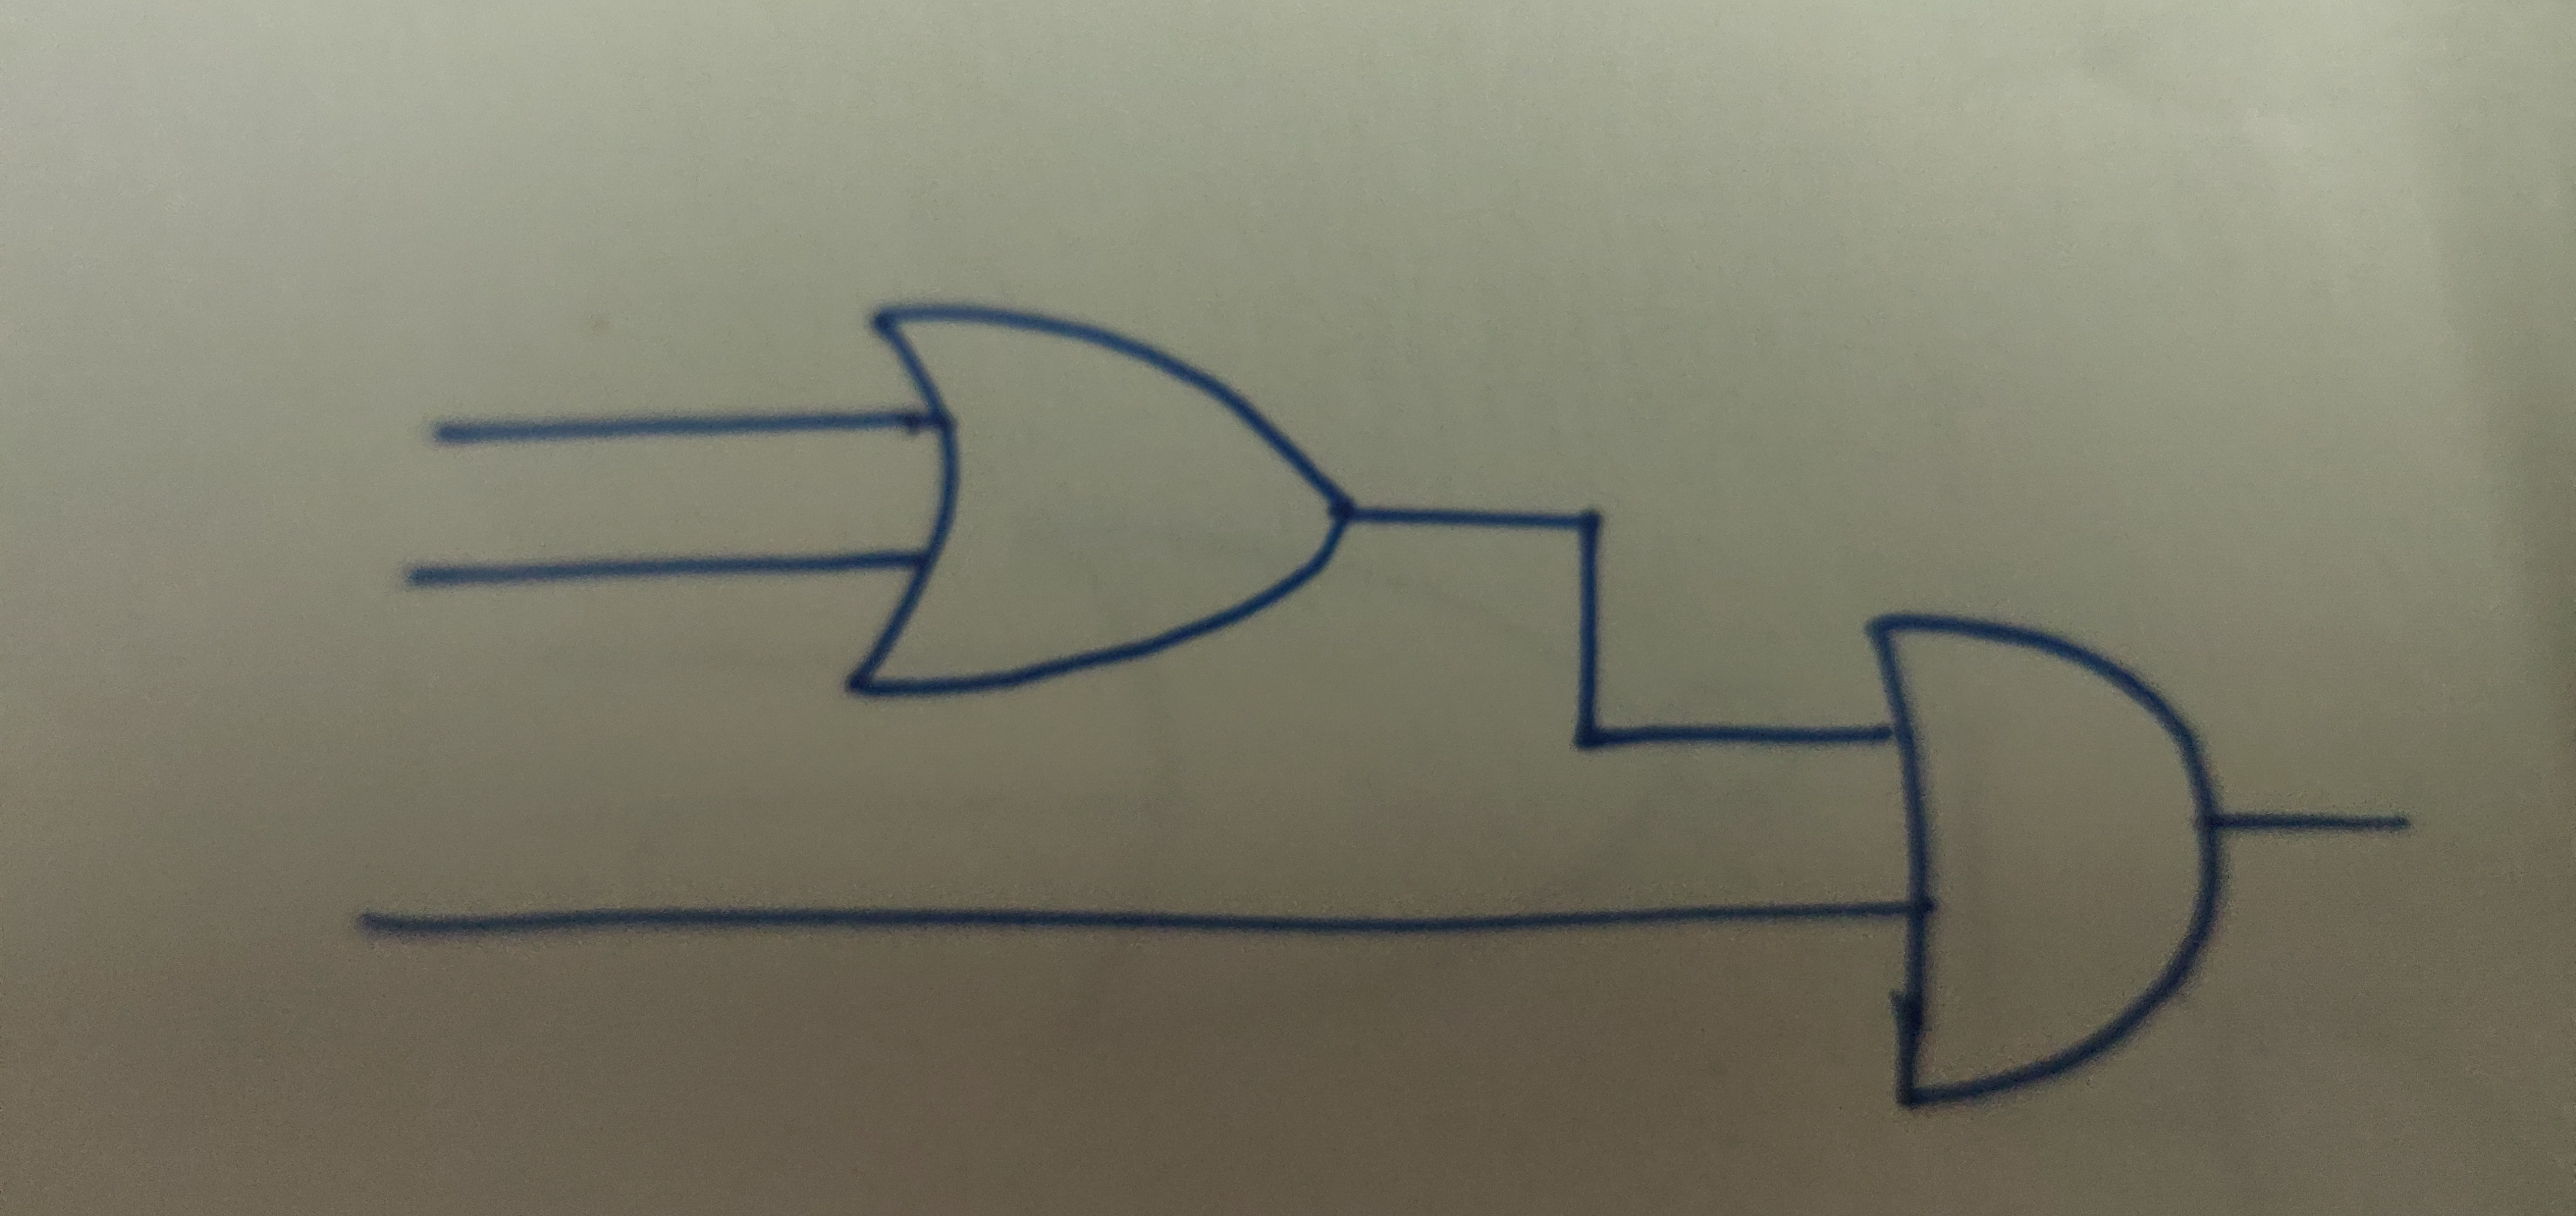and: (1856, 608, 2224, 1124)
or: (854, 306, 1354, 703)
